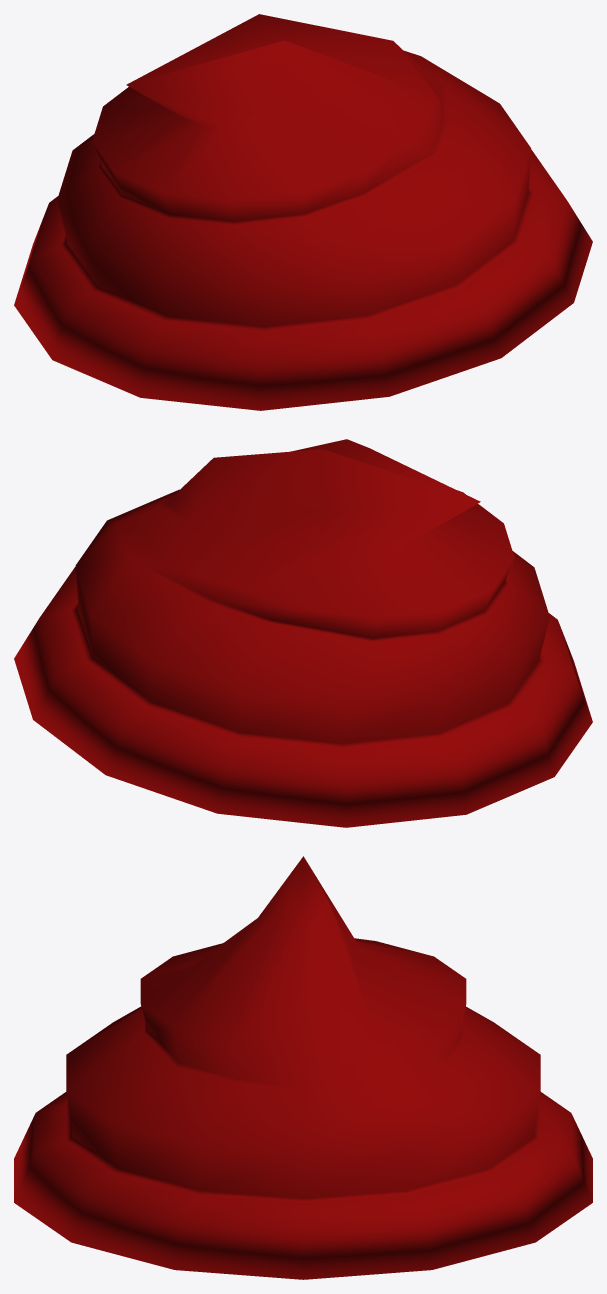
File: beanie_hat.fbx
3 renders of one model, top to bottom at view 1: azimuth 30°, elevation 25°; view 2: azimuth 150°, elevation 25°; view 3: azimuth 270°, elevation 25°, orthographic.
Parts seen in each view (by area): view 1: pasted__pasted__pasted__pSphere1; view 2: pasted__pasted__pasted__pSphere1; view 3: pasted__pasted__pasted__pSphere1.
Part boxes in pixels (left/top/right/bottom): pasted__pasted__pasted__pSphere1: left=14, top=14, right=592, bottom=410; pasted__pasted__pasted__pSphere1: left=14, top=439, right=592, bottom=827; pasted__pasted__pasted__pSphere1: left=14, top=856, right=592, bottom=1279.
Size of the model in its own units: 1.7 by 0.9162 by 1.66.
